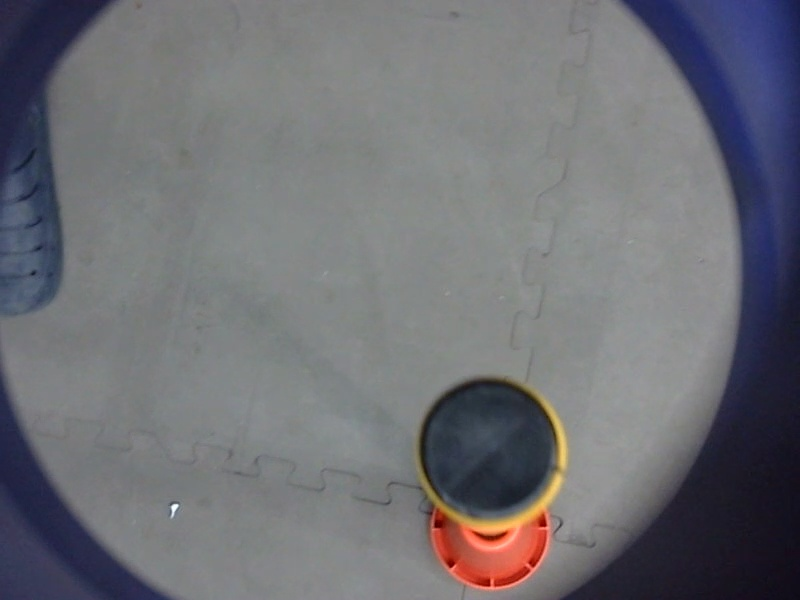tip: (400, 367, 575, 540)
